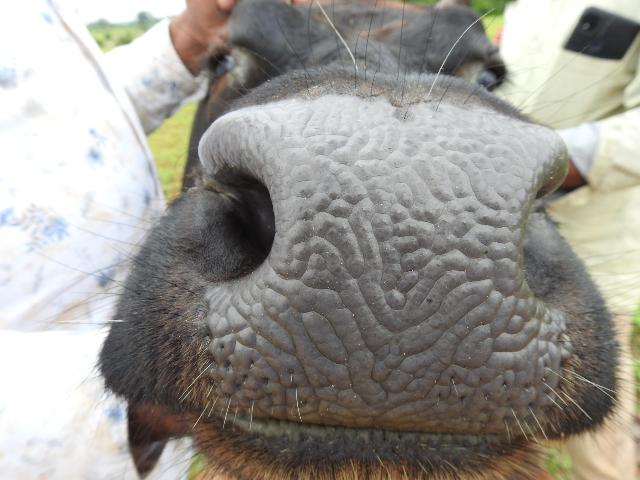Muzzle: (255, 110, 540, 430)
